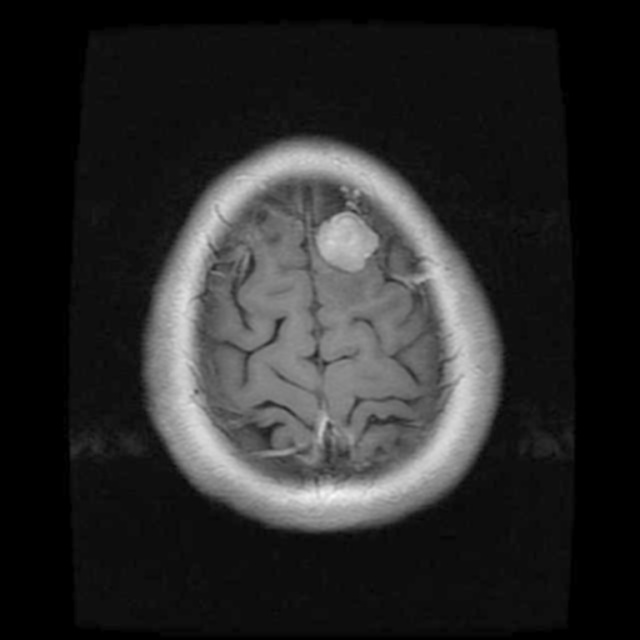meningioma tumor: (314, 207, 382, 275)
